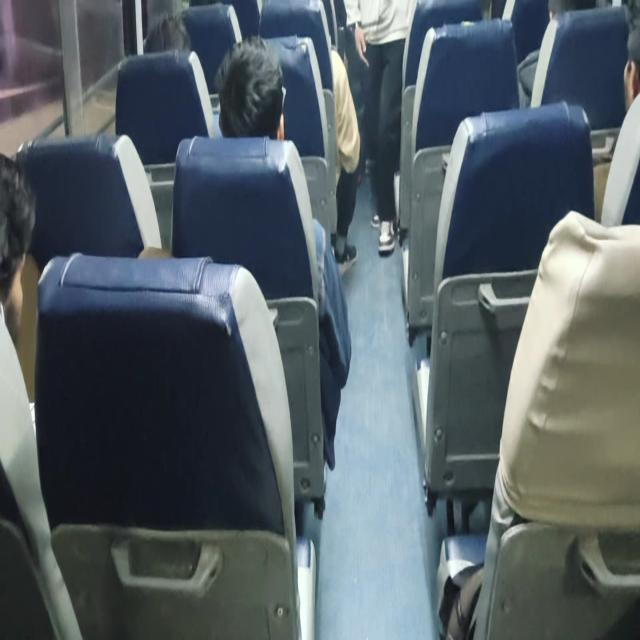person: (214, 35, 352, 469), (0, 152, 83, 637), (258, 0, 360, 275), (343, 0, 417, 254), (592, 22, 640, 226), (213, 34, 286, 140), (0, 152, 37, 344)
